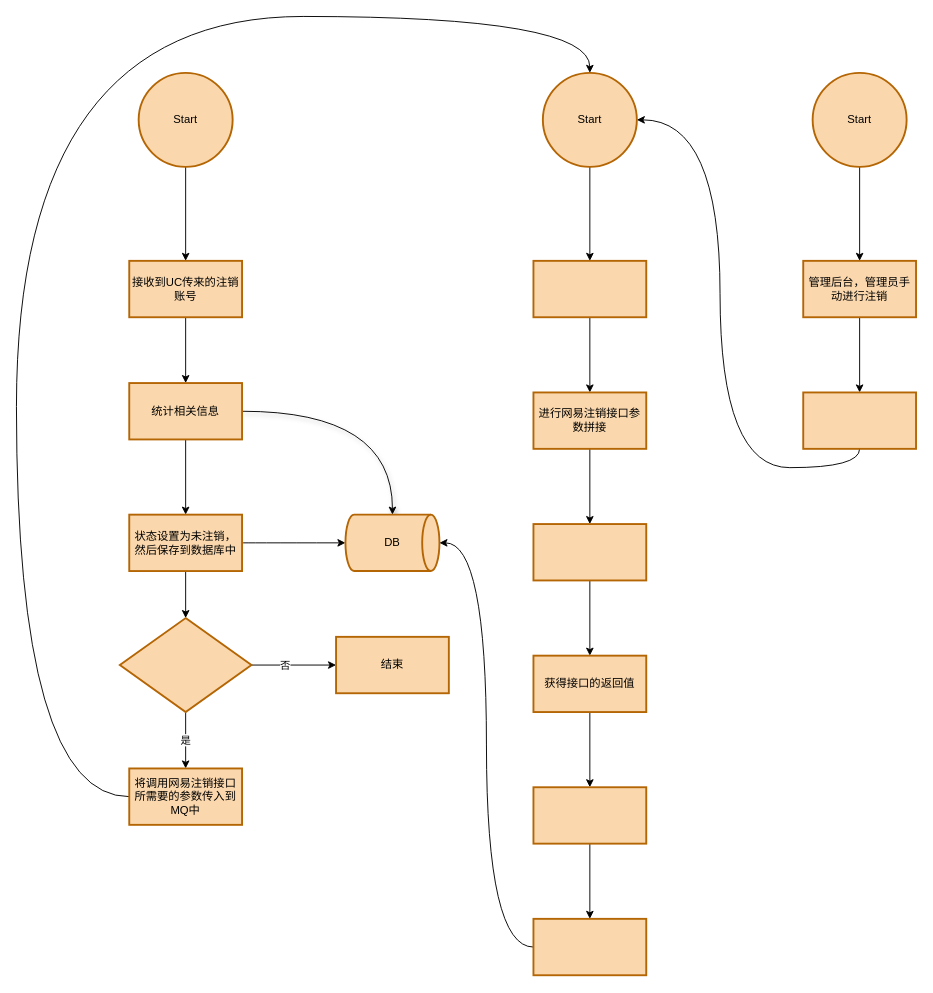
Image size: 933x993. Some labels were removed from this diagram. Each missing label, with the centre of its shape:
"从MQ中获取调用网易注销接口需要的信息" goes at (589,288).
"判断是否要自动删除" goes at (185,665).
"将网易注销接口需要参数传入到MQ中" goes at (859,420).
"根据返回的状态值来设置状态" goes at (589,815).
"然后更新数据库里面的记录状态" goes at (589,946).
"调用网易注销接口" goes at (589,552).
